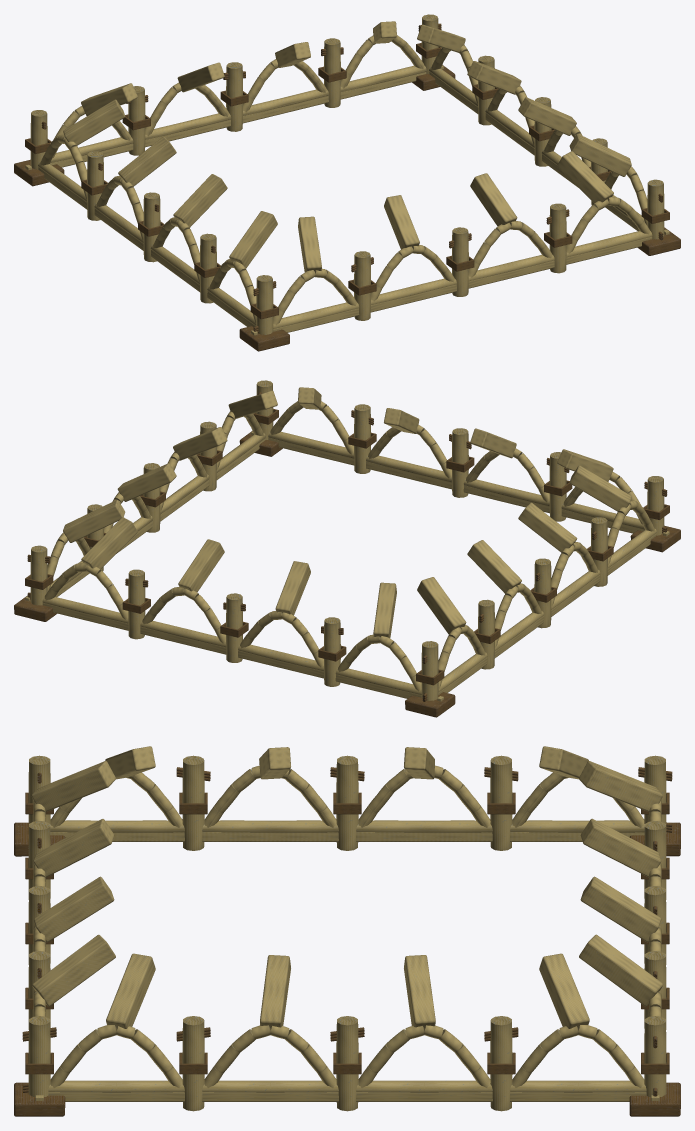
The picture shows the model from 3 angles, top to bottom: view 1: azimuth 30°, elevation 25°; view 2: azimuth 150°, elevation 25°; view 3: azimuth 270°, elevation 25°; orthographic projection. The views are drawn at different scales.
Parts seen in each view (by area): view 1: Crown petal 0-3, Crown petal 3-0, Crown petal 1-0, Crown petal 3-3, Crown petal 3-2, Crown petal 3-1, Crown petal 0-2, Crown petal 0-1, Crown petal 1-1, Crown petal 0-0, Tier 0 side 0 post 3, Tier 0 side 2 post 1 (+41 smaller); view 2: Crown petal 3-3, Crown petal 2-0, Crown petal 3-0, Crown petal 3-1, Crown petal 3-2, Crown petal 1-3, Crown petal 2-1, Crown petal 2-2, Crown petal 1-2, Crown petal 2-3, Tier 0 side 2 post 1, Tier 0 side 0 post 3 (+41 smaller); view 3: Crown petal 2-0, Crown petal 0-3, Crown petal 2-1, Crown petal 0-2, Crown petal 2-2, Crown petal 0-1, Crown petal 1-3, Crown petal 1-0, Crown petal 2-3, Crown petal 0-0, Tier 0 side 3 post 3, Tier 0 side 3 post 1 (+40 smaller).
Boxes of the visible parts, left/top/right/bottom form: Crown petal 0-3: left=557, top=151, right=613, bottom=203; Crown petal 3-0: left=63, top=99, right=125, bottom=145; Crown petal 1-0: left=569, top=133, right=631, bottom=176; Crown petal 3-3: left=229, top=211, right=277, bottom=268; Crown petal 3-2: left=173, top=174, right=227, bottom=227; Crown petal 3-1: left=118, top=136, right=176, bottom=186; Crown petal 0-2: left=470, top=173, right=517, bottom=226; Crown petal 0-1: left=384, top=195, right=419, bottom=249; Crown petal 1-1: left=518, top=97, right=576, bottom=135; Crown petal 0-0: left=298, top=216, right=321, bottom=272; Tier 0 side 0 post 3: left=549, top=203, right=566, bottom=273; Tier 0 side 2 post 1: left=324, top=38, right=340, bottom=107; Crown petal 3-3: left=569, top=465, right=631, bottom=511; Crown petal 2-0: left=81, top=517, right=137, bottom=569; Crown petal 3-0: left=417, top=577, right=466, bottom=634; Crown petal 3-1: left=467, top=540, right=521, bottom=593; Crown petal 3-2: left=518, top=502, right=577, bottom=552; Crown petal 1-3: left=63, top=499, right=125, bottom=542; Crown petal 2-1: left=178, top=539, right=224, bottom=592; Crown petal 2-2: left=275, top=561, right=310, bottom=615; Crown petal 1-2: left=117, top=463, right=176, bottom=501; Crown petal 2-3: left=373, top=582, right=396, bottom=638; Tier 0 side 2 post 1: left=128, top=569, right=145, bottom=639; Tier 0 side 0 post 3: left=354, top=404, right=370, bottom=473; Crown petal 2-0: left=579, top=934, right=663, bottom=1006; Crown petal 0-3: left=32, top=934, right=115, bottom=1006; Crown petal 2-1: left=580, top=876, right=661, bottom=942; Crown petal 0-2: left=34, top=876, right=114, bottom=942; Crown petal 2-2: left=580, top=818, right=660, bottom=877; Crown petal 0-1: left=33, top=819, right=114, bottom=877; Crown petal 1-3: left=539, top=953, right=589, bottom=1028; Crown petal 1-0: left=106, top=953, right=155, bottom=1028; Crown petal 2-3: left=579, top=761, right=662, bottom=811; Crown petal 0-0: left=31, top=761, right=115, bottom=811; Tier 0 side 3 post 3: left=182, top=755, right=204, bottom=850; Tier 0 side 3 post 1: left=490, top=755, right=512, bottom=850.
Bounding box in the file's own units: 1.95 × 0.4031 × 1.95.
Materials: 2 (2 with a texture image).
